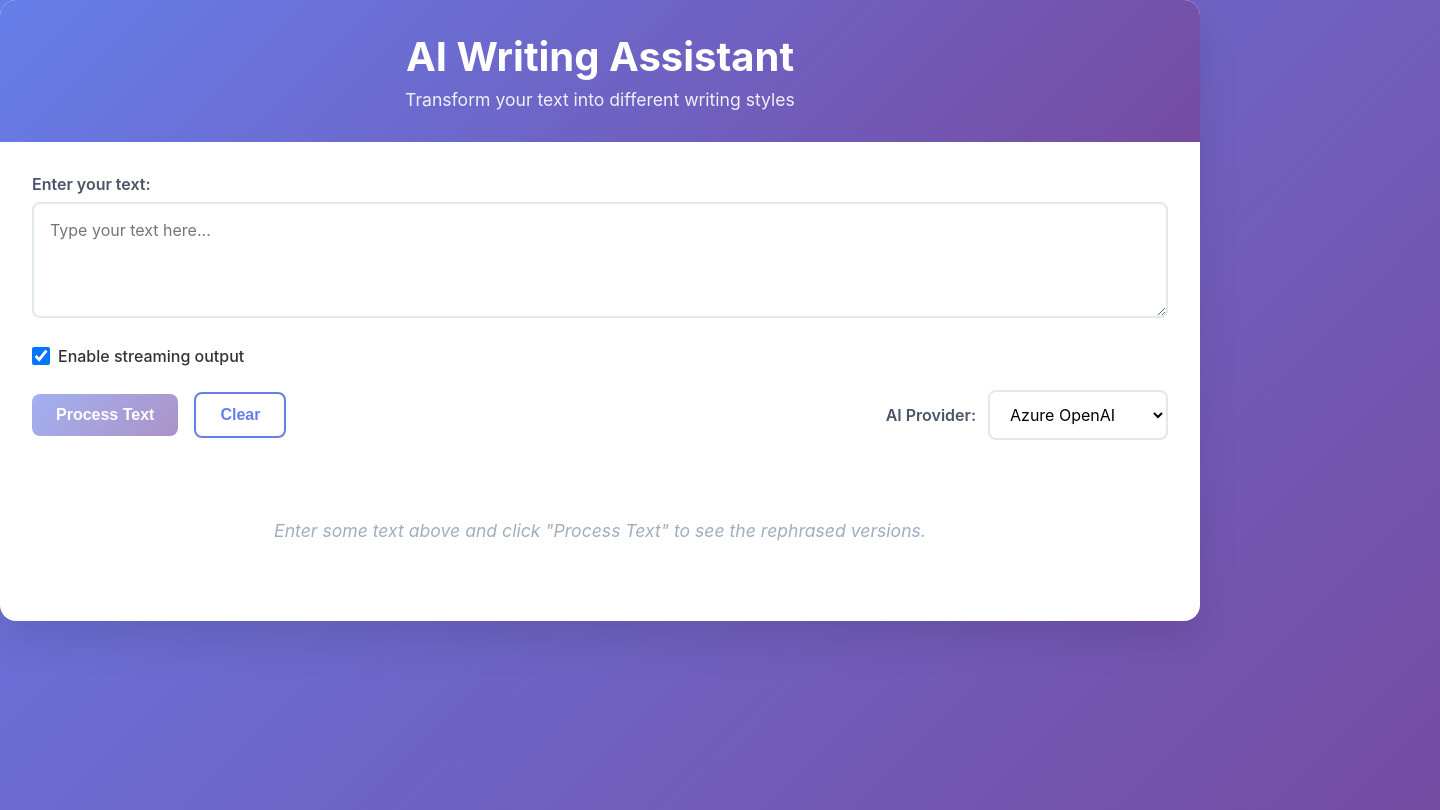
Test: WritingAssistant › clears results when clear button is clicked
This screenshot has width=1440, height=810.
// Disable streaming for this test
Click the checkbox labelled "Enable streaming output". click: [41, 356]
box: [32,347,50,365]
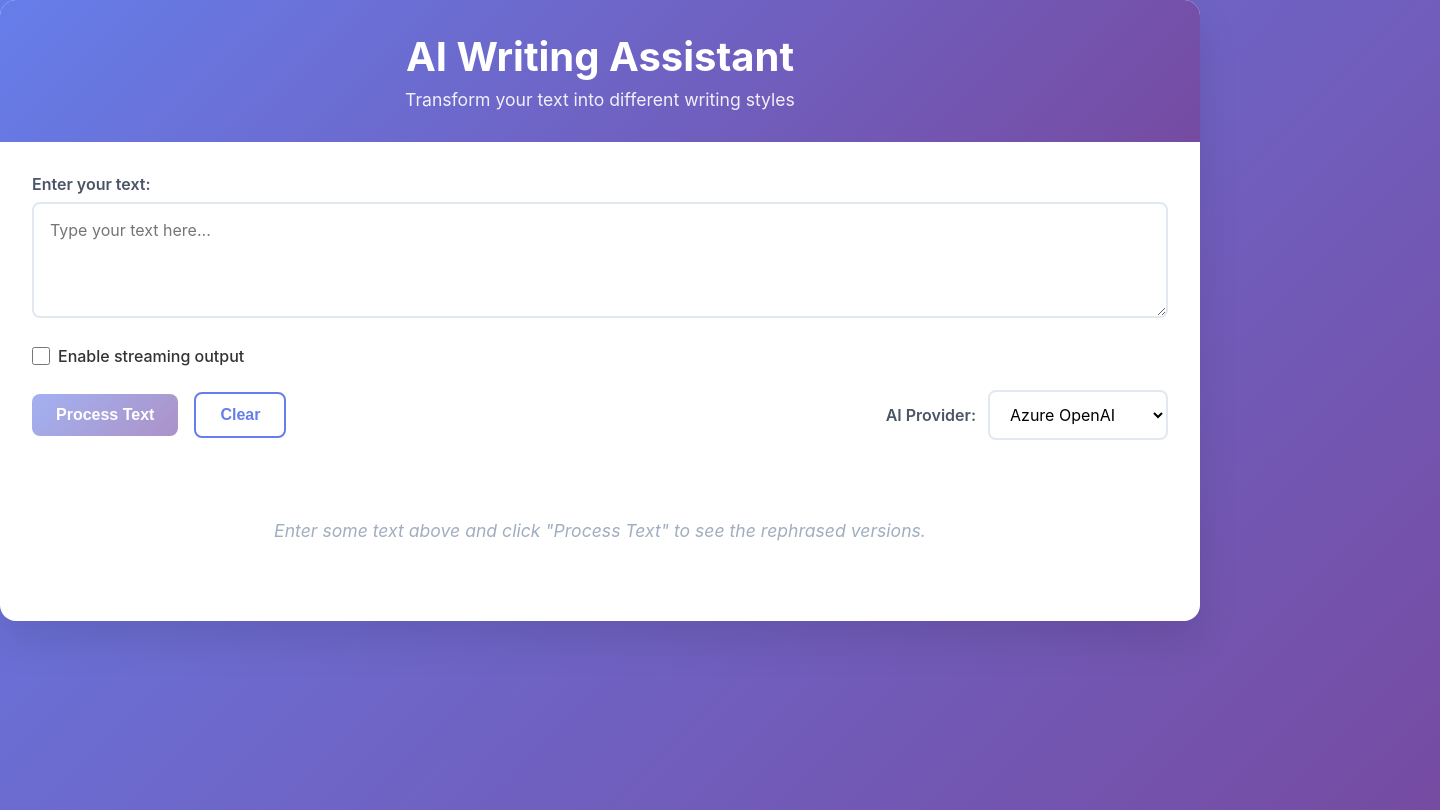
Type "Hello world" into the text box labelled "Enter your text:". click: [600, 260]
box: [32,202,1168,318]
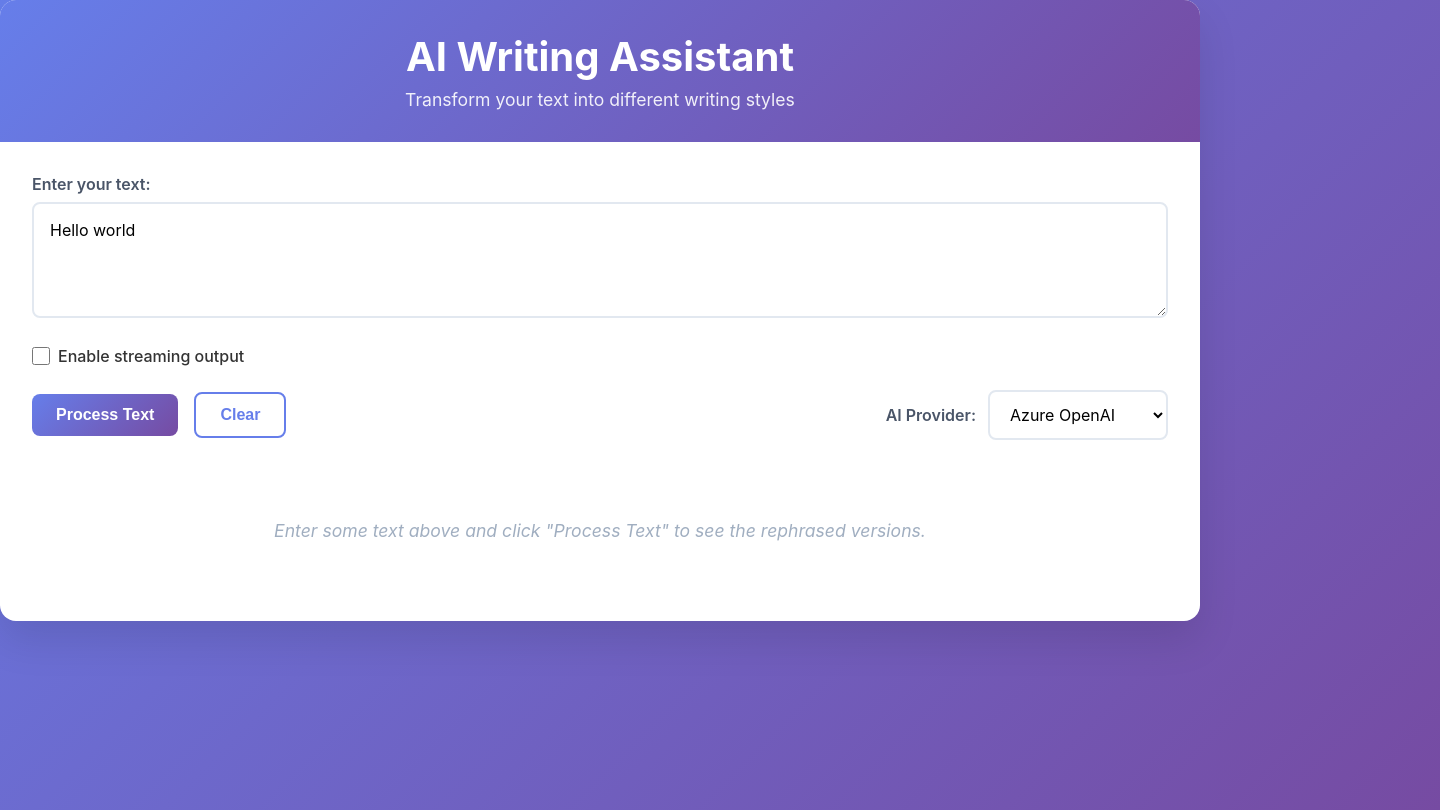
Click the button "Process Text". click: [105, 415]
box: [32,394,178,436]
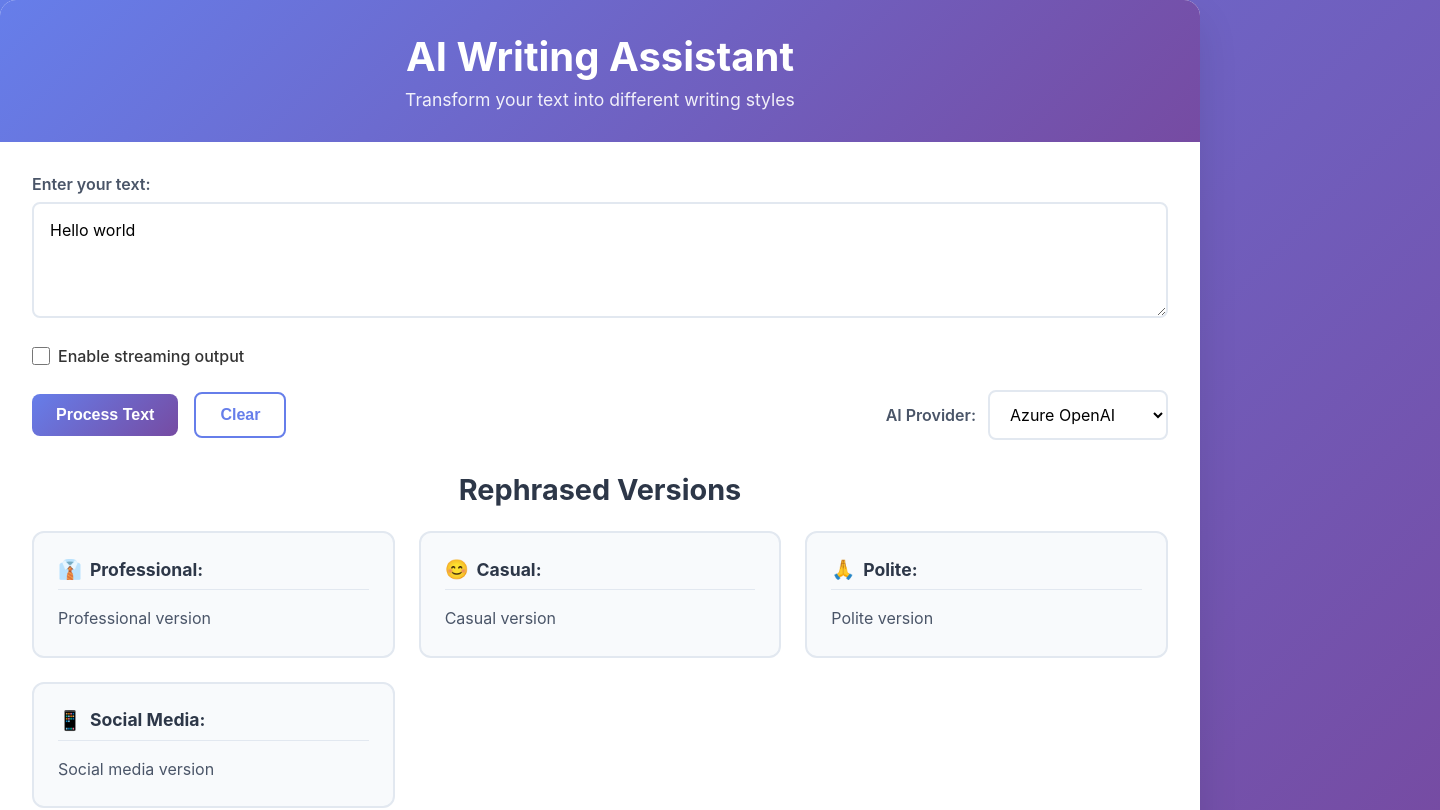
Expected: the text "Professional version" is shown, [58,608,211,628]
Click the button "Clear". click: [240, 415]
box: [194,392,286,438]
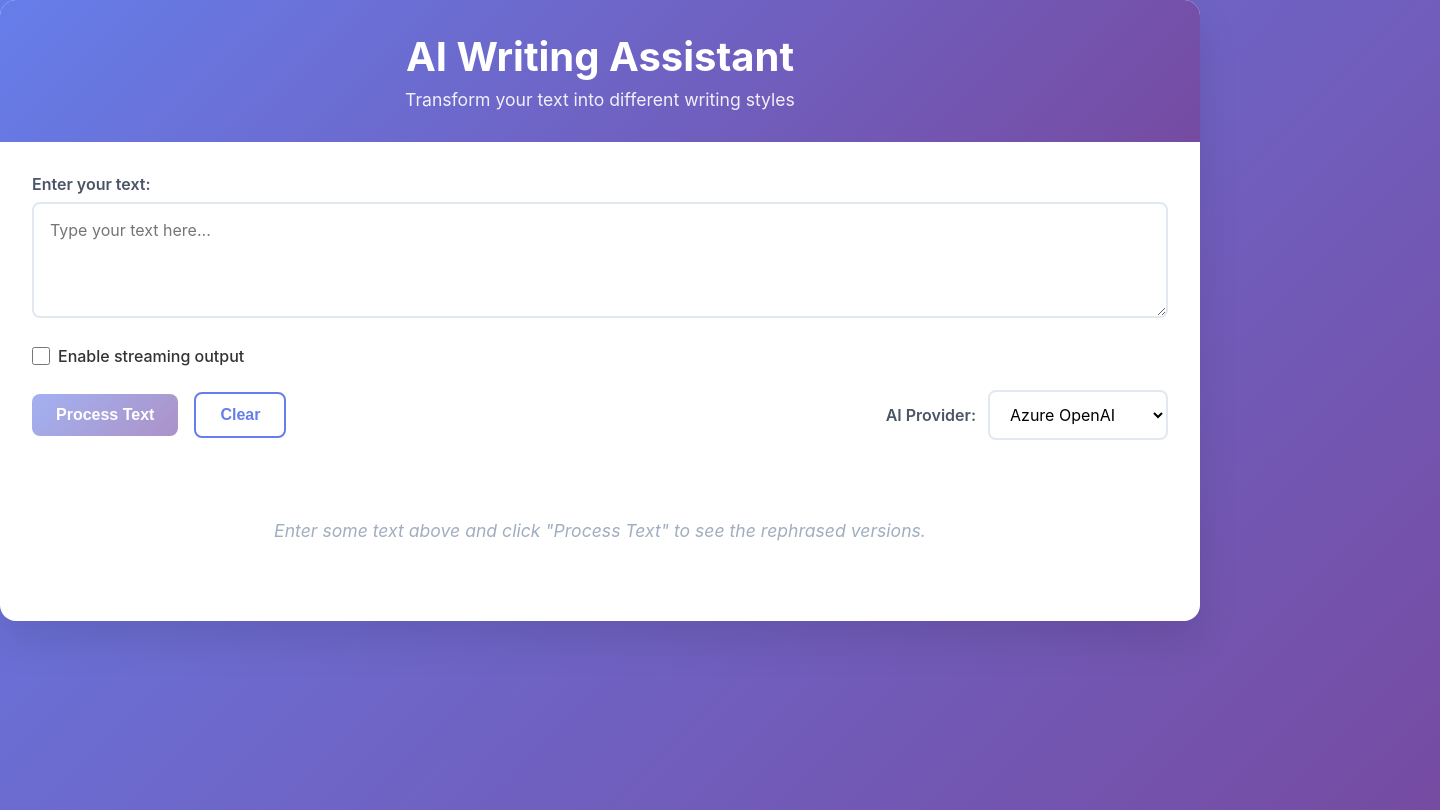
Expected: the text box labelled "Enter your text:" is empty, [32,202,1168,318]
Expected: the text "Enter some text above and click \"Process Text\"" is shown, [274,520,926,541]
